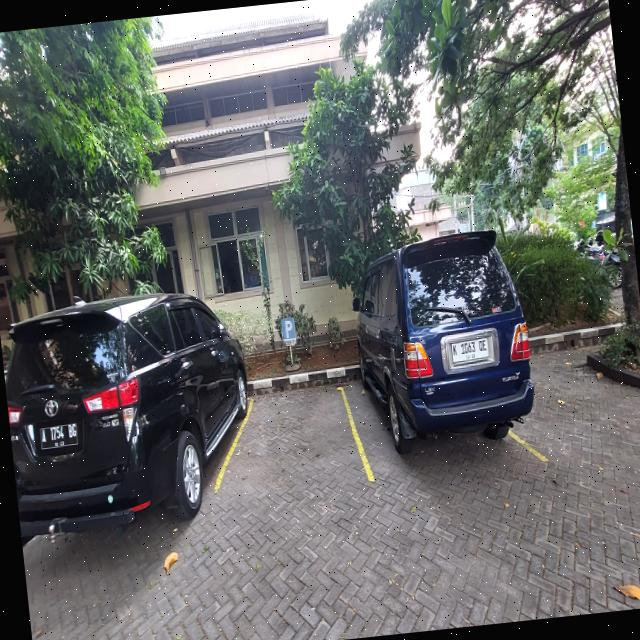empty: (217, 380, 371, 489), (513, 350, 640, 462)
occupied: (3, 289, 255, 554), (336, 232, 548, 484)
